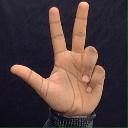hand: (9, 1, 105, 118)
